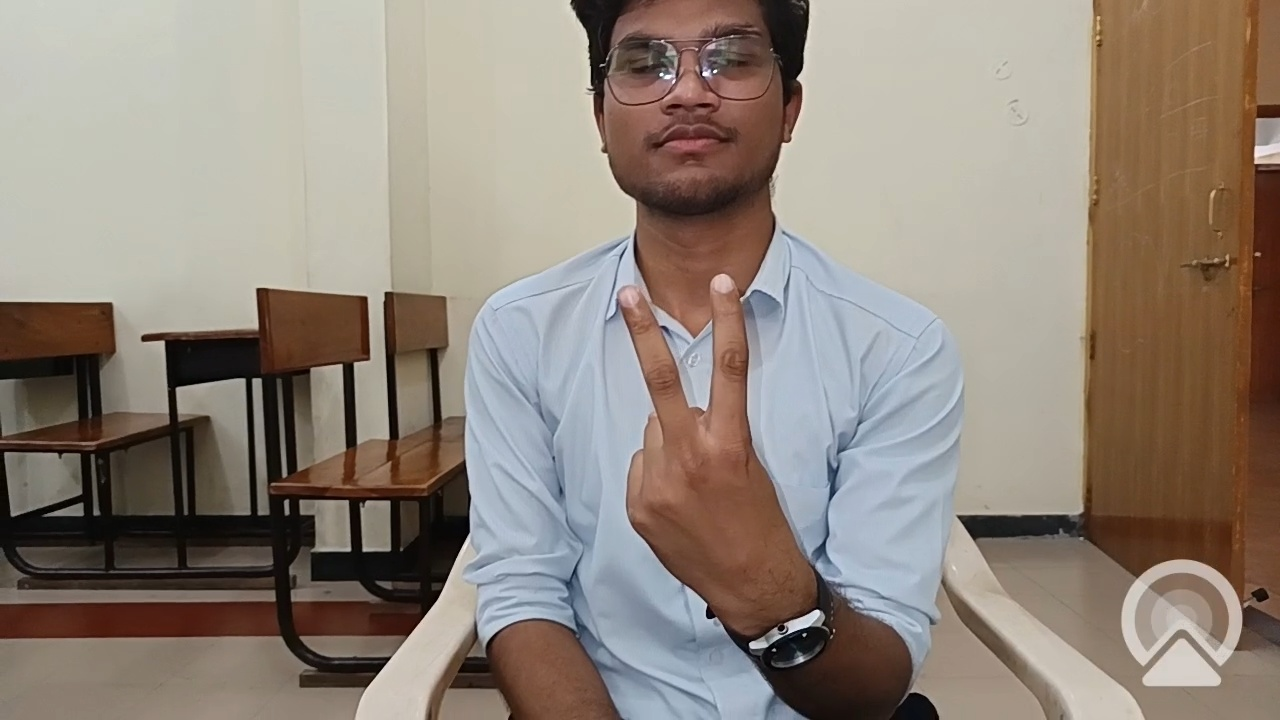V: (592, 237, 849, 624)
